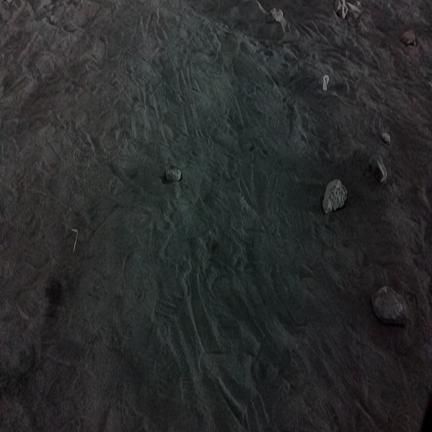Rock: (372, 287, 408, 324), (323, 180, 346, 213), (369, 155, 387, 182), (346, 1, 361, 18), (401, 30, 416, 45), (267, 8, 283, 22), (335, 0, 347, 18), (166, 169, 181, 181), (381, 133, 390, 144), (323, 75, 329, 90)
